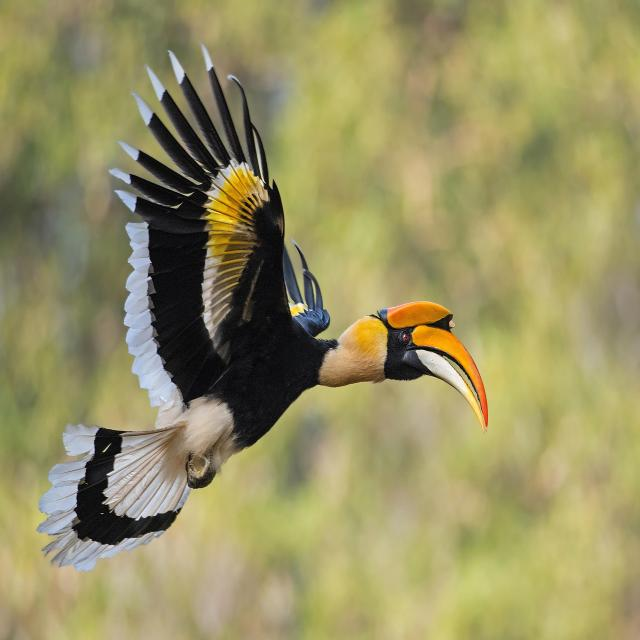Hornbill: (34, 52, 493, 579)
